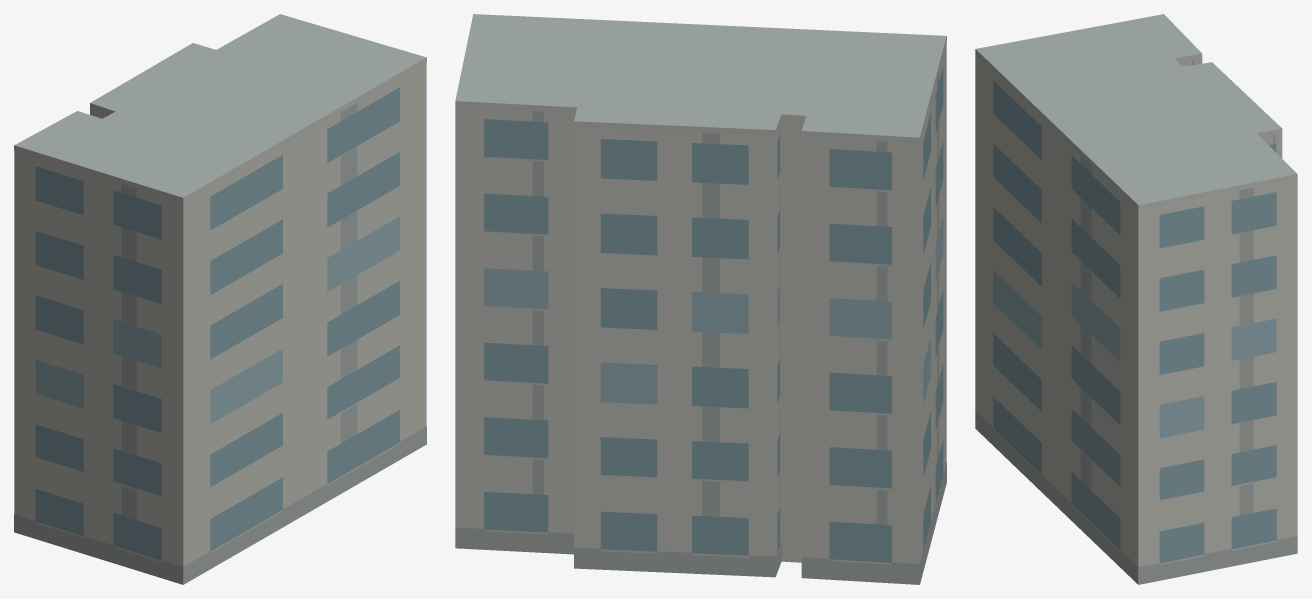
Rendered from survey-upis-32809123.glb.
3 views of the same model, side by side, from view 1: azimuth 30°, elevation 25°; view 2: azimuth 150°, elevation 25°; view 3: azimuth 270°, elevation 25° (orthographic). The views are drawn at different scales.
Visible parts, largest first — view 1: survey-upis-32809123.tmp; view 2: survey-upis-32809123.tmp; view 3: survey-upis-32809123.tmp.
Boxes of the visible parts, box(x1,y1,x2,y2) form: survey-upis-32809123.tmp: box(14, 14, 426, 584); survey-upis-32809123.tmp: box(455, 14, 946, 584); survey-upis-32809123.tmp: box(975, 14, 1297, 584).
Bounding box in the file's own units: 19.78 × 18.3 × 14.08.
